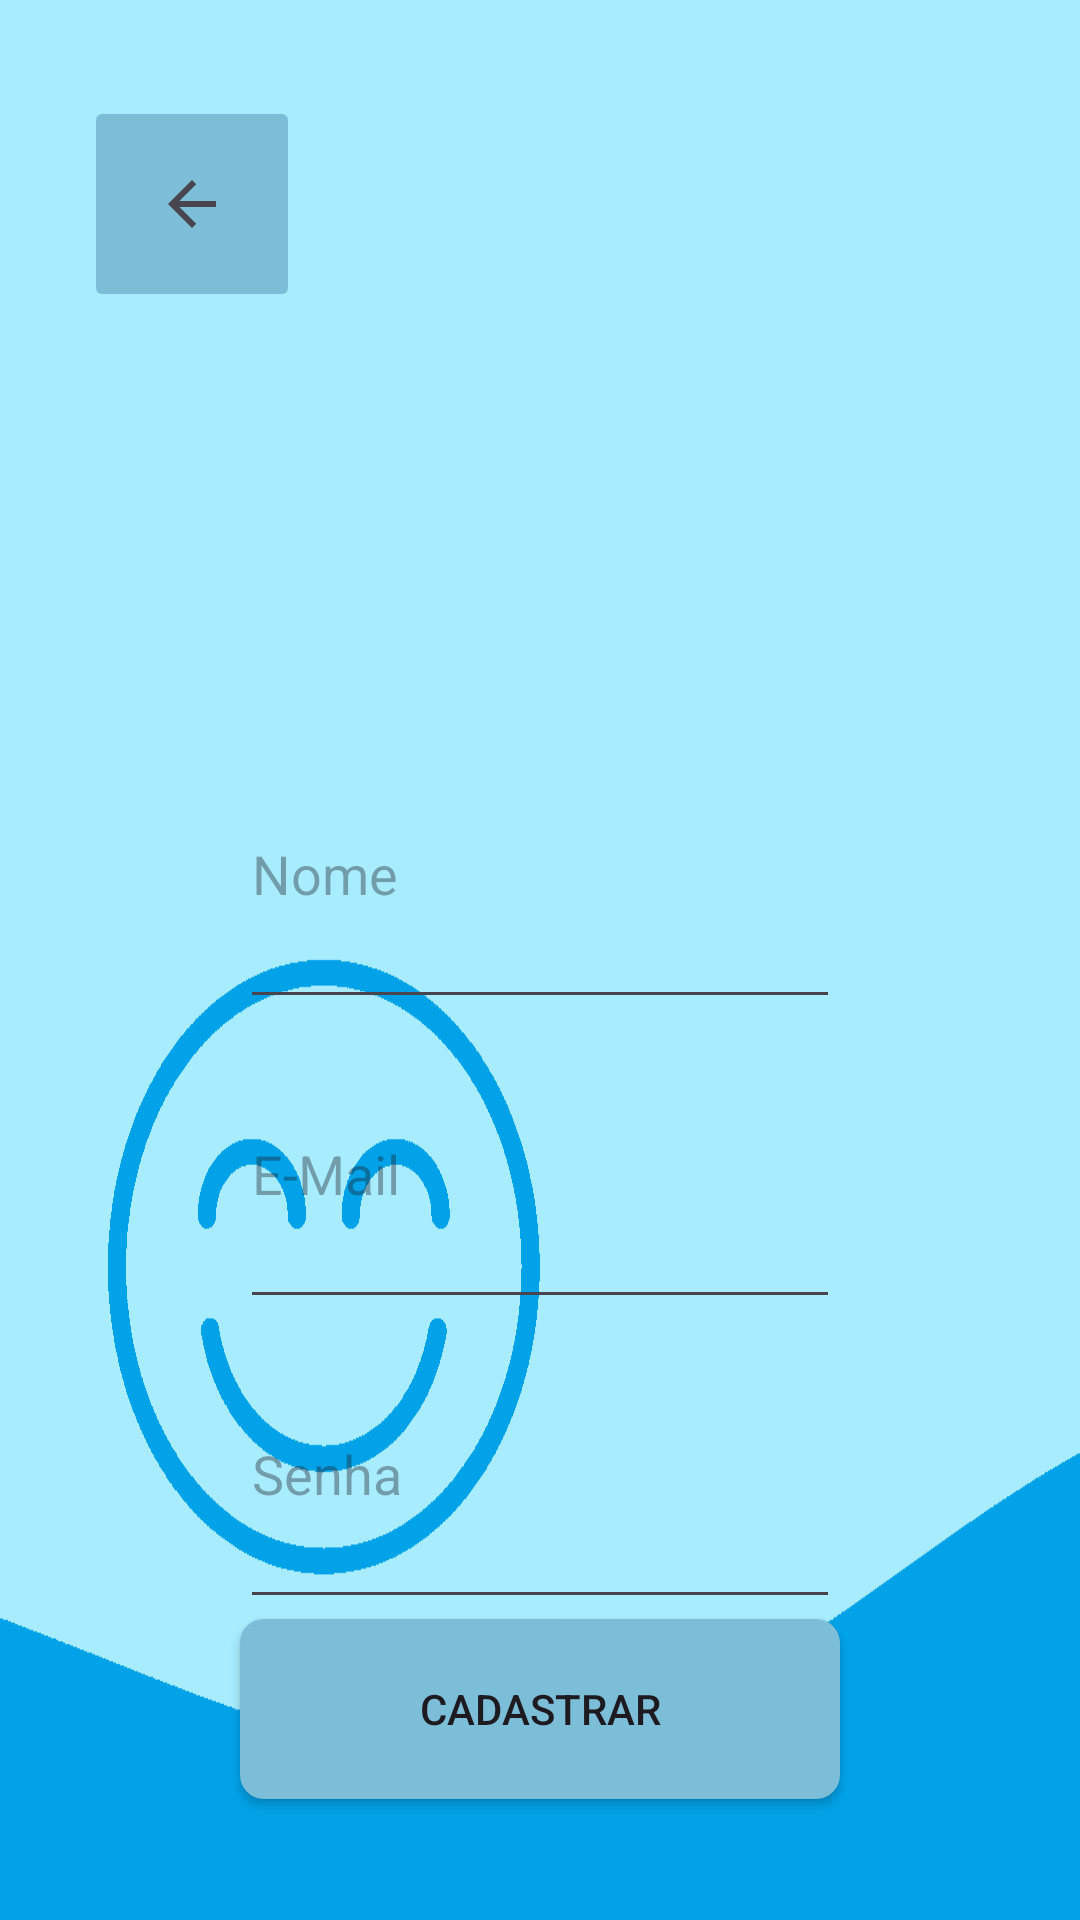

Icons on this 1080px×1920px Android screen, each with its box as (x1, y1, x2, y2):
Voltar: (96, 114, 288, 294)
